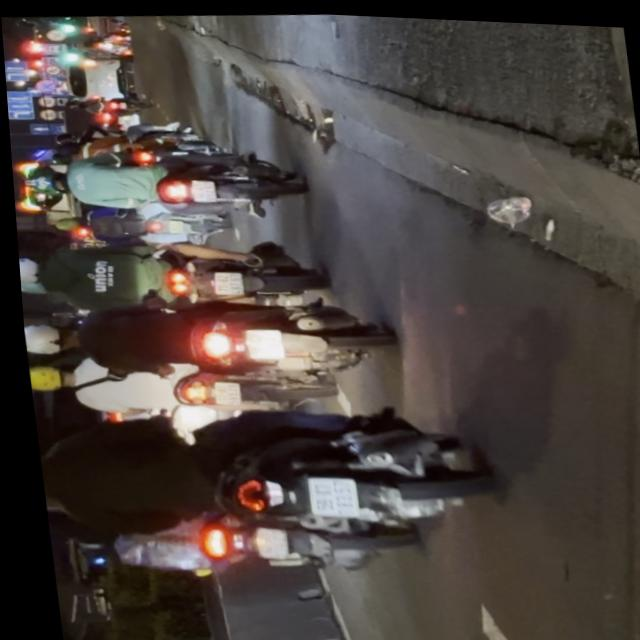helmet: (19, 320, 73, 359), (23, 363, 66, 393), (25, 173, 65, 196), (15, 256, 46, 285), (16, 276, 51, 297)
licenseplate: (27, 385, 493, 554), (16, 280, 390, 391), (38, 490, 409, 590), (13, 225, 322, 324), (21, 342, 334, 430), (15, 135, 303, 227)
nohelmet: (298, 473, 351, 516), (239, 325, 279, 359), (246, 525, 280, 558), (205, 379, 235, 405), (208, 269, 239, 294), (187, 177, 213, 201)
